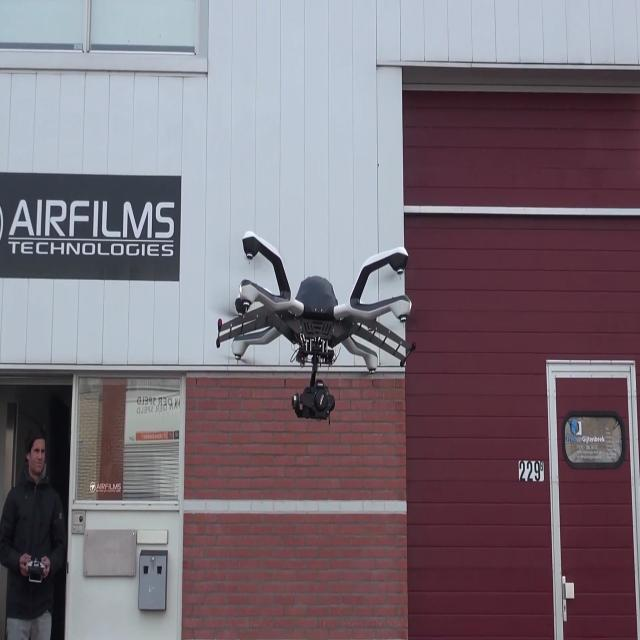drone: (170, 209, 418, 456)
